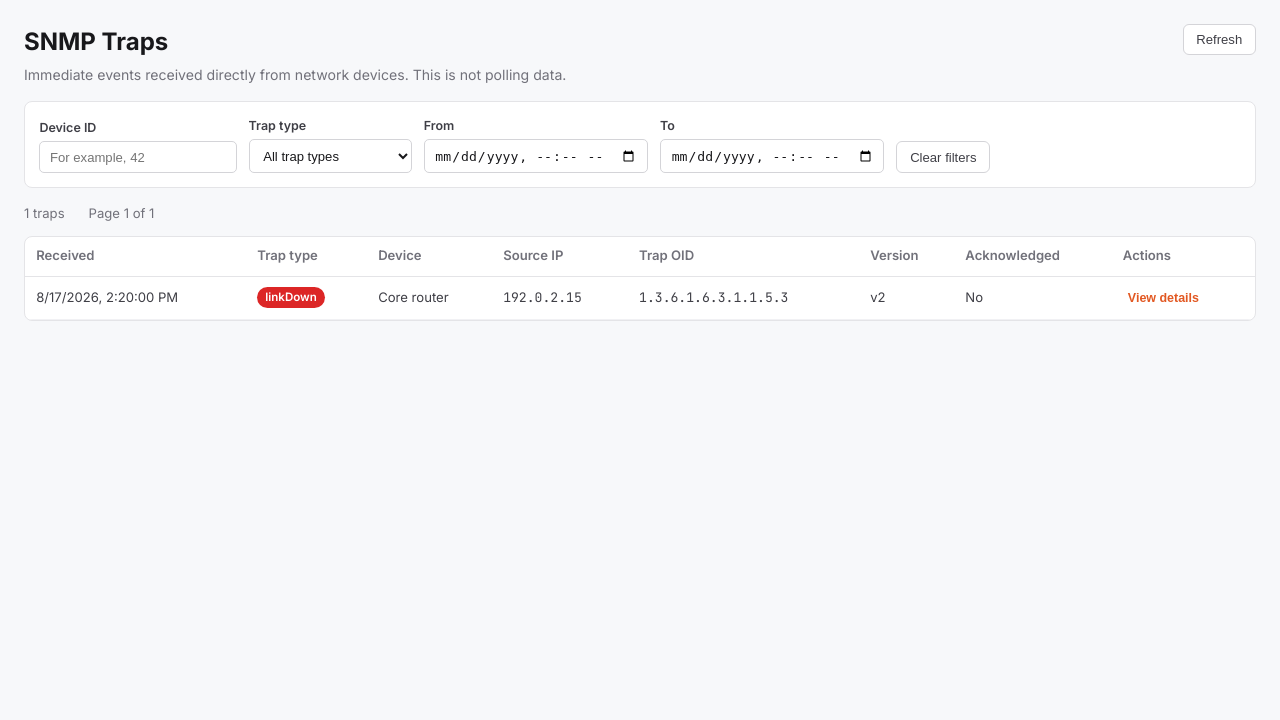
Test: SnmpTraps privacy and permissions › makes shortened raw details explicit to the operator
Click the button "View details": coordinates (1163, 298) [1123,288,1204,308]
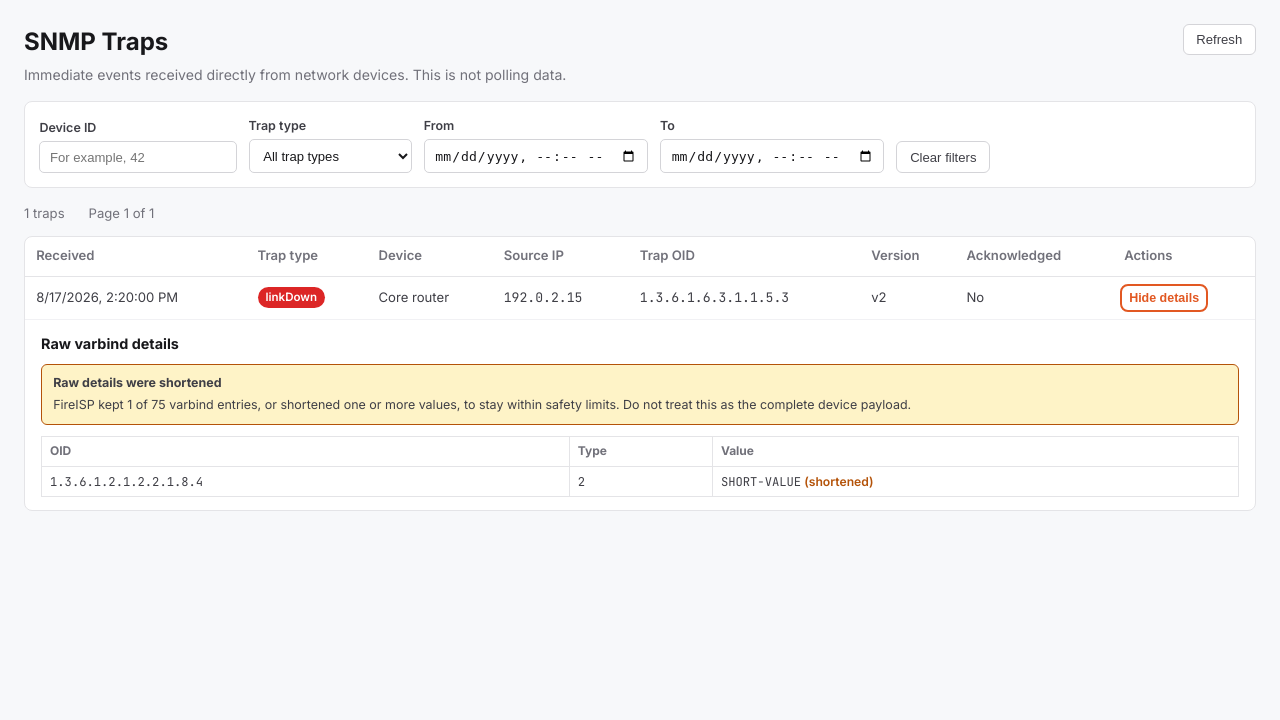
Check: the text "Raw details were shortened" is shown, box [53,375,222,390]
Check: the text "kept 1 of 75 varbind entries" is shown, box [53,397,911,412]
Check: the text "(shortened)" is shown, box [801,474,874,489]
